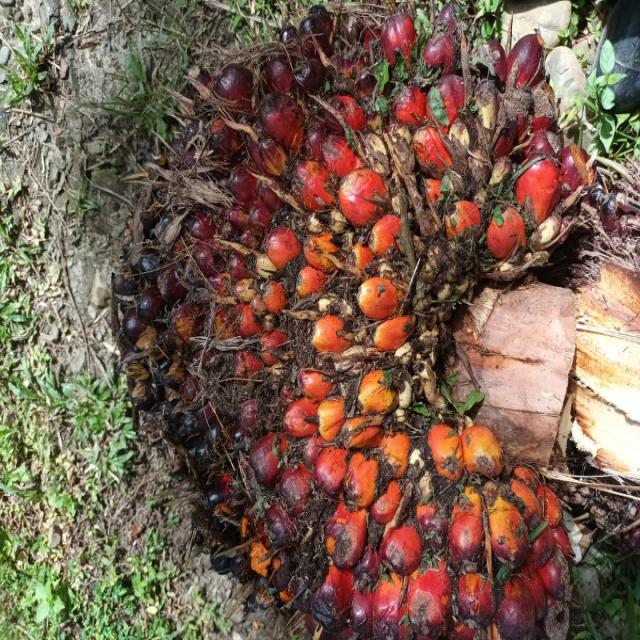fraksi 1: (2, 64, 470, 640)
